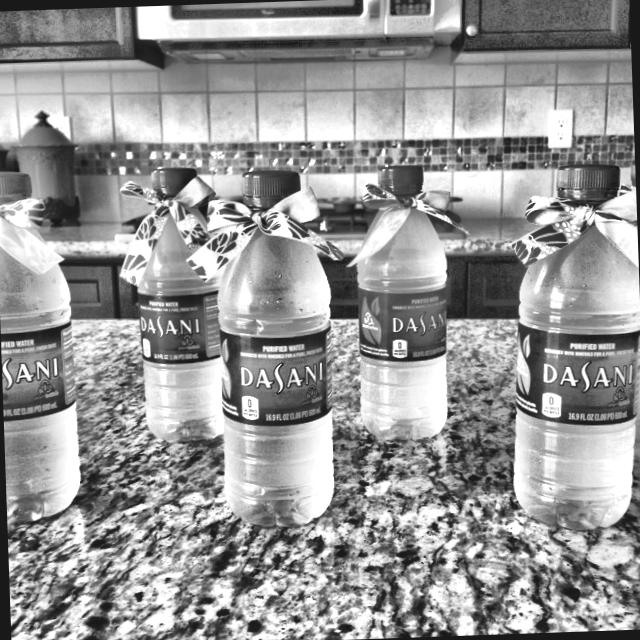waterbottle: (184, 160, 351, 538), (494, 150, 640, 540), (339, 155, 484, 449), (112, 152, 244, 453), (0, 156, 87, 534)
